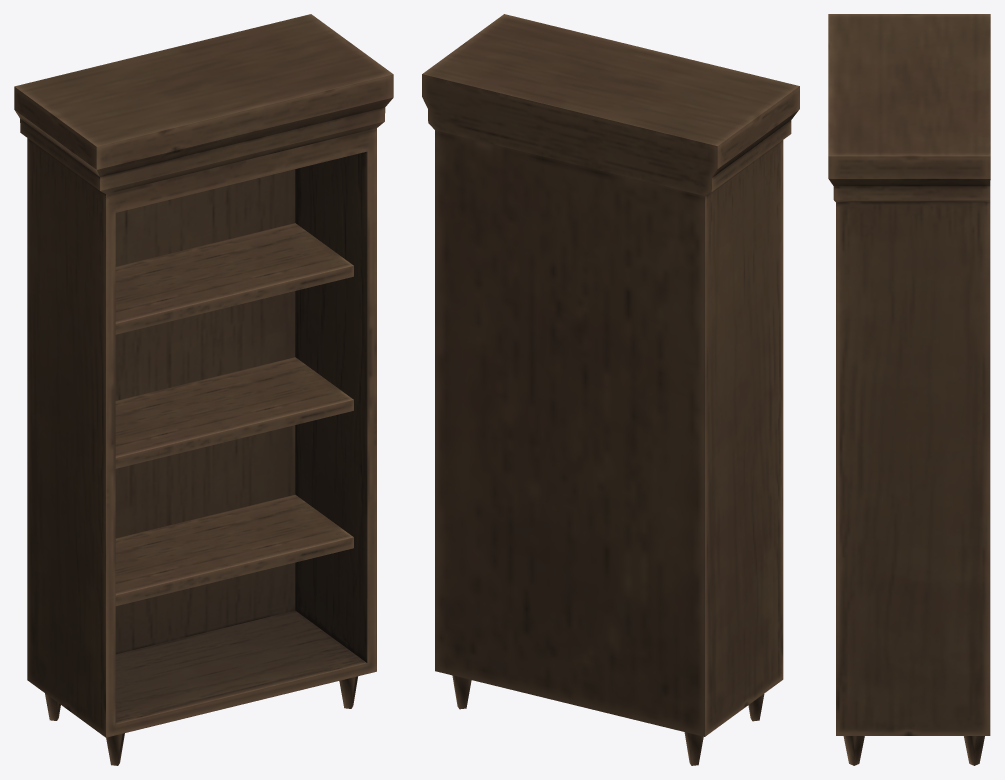
The model's file is Wardrobe_3.fbx.
The picture shows the model from 3 angles, left to right: view 1: azimuth 30°, elevation 25°; view 2: azimuth 150°, elevation 25°; view 3: azimuth 270°, elevation 25°; orthographic projection.
Parts seen in each view (by area): view 1: Wardrobe_3; view 2: Wardrobe_3; view 3: Wardrobe_3.
Part boxes in pixels (<box>): Wardrobe_3: <box>14,14,393,765</box>; Wardrobe_3: <box>422,14,799,765</box>; Wardrobe_3: <box>828,14,990,765</box>.
Size of the model in its own units: 152 by 311 by 73.41.
